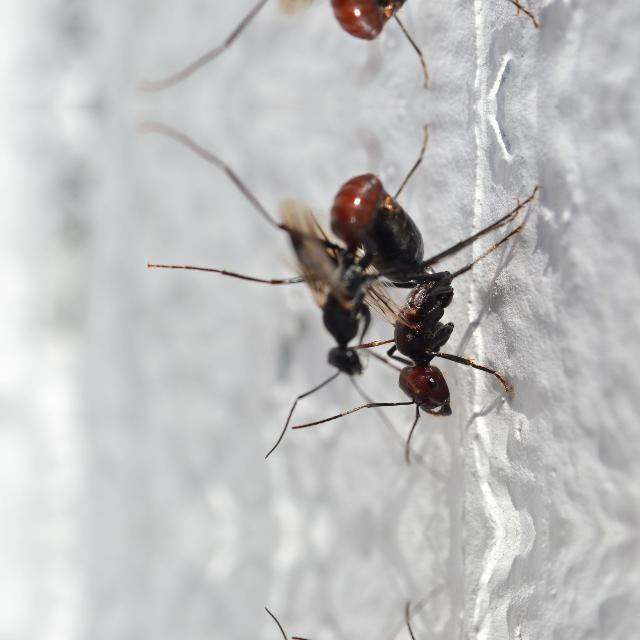Cataglyphis: (352, 157, 472, 433), (260, 160, 392, 398), (258, 0, 391, 50)
